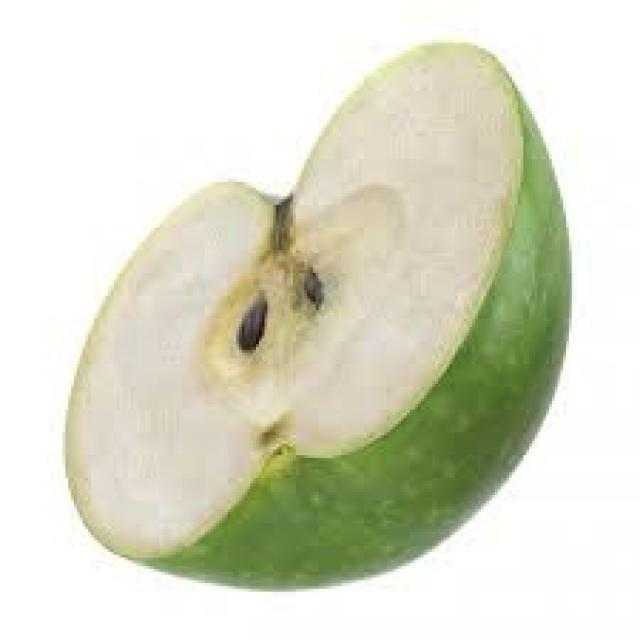Apple: (61, 38, 574, 590)
